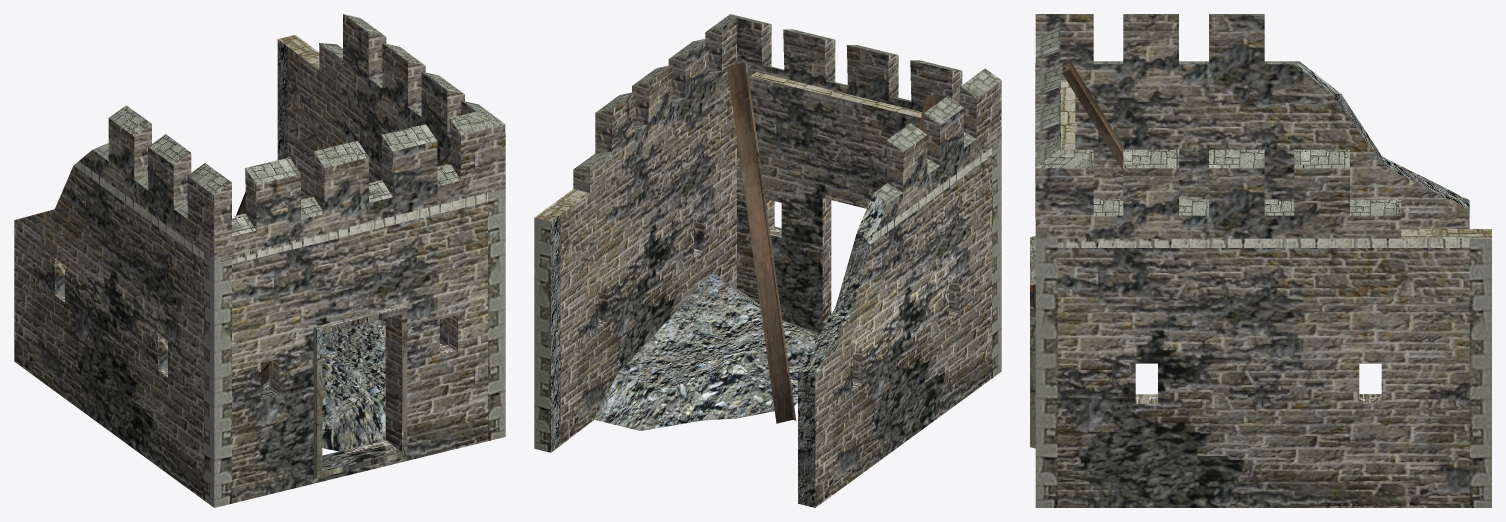
Rendered from building_ruin_04.glb.
3 views of the same model, side by side, from view 1: azimuth 30°, elevation 25°; view 2: azimuth 150°, elevation 25°; view 3: azimuth 270°, elevation 25° (orthographic). The views are drawn at different scales.
Parts seen in each view (by area): view 1: building_ruin_04; view 2: building_ruin_04; view 3: building_ruin_04.
Part boxes in pixels (<box>): building_ruin_04: <box>14,14,505,507</box>; building_ruin_04: <box>534,14,1001,507</box>; building_ruin_04: <box>1030,14,1491,507</box>.
Size of the model in its own units: 8.2 by 9.25 by 10.37.
Materials: 6 (6 with a texture image).
